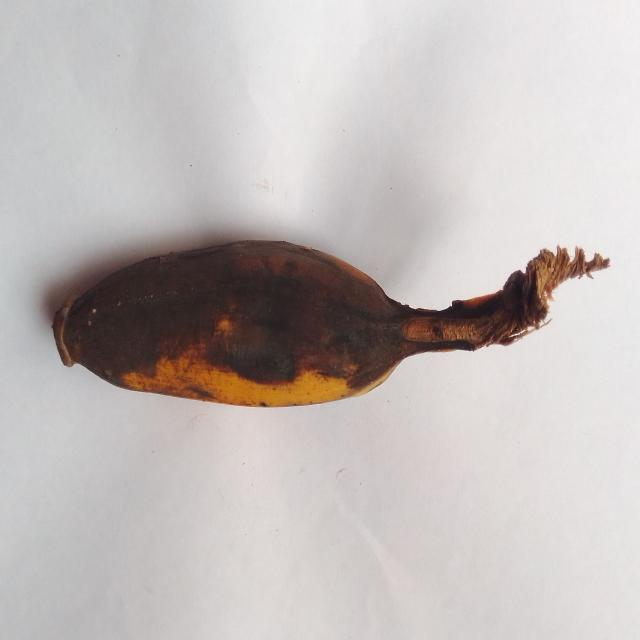banana: (54, 242, 608, 406)
